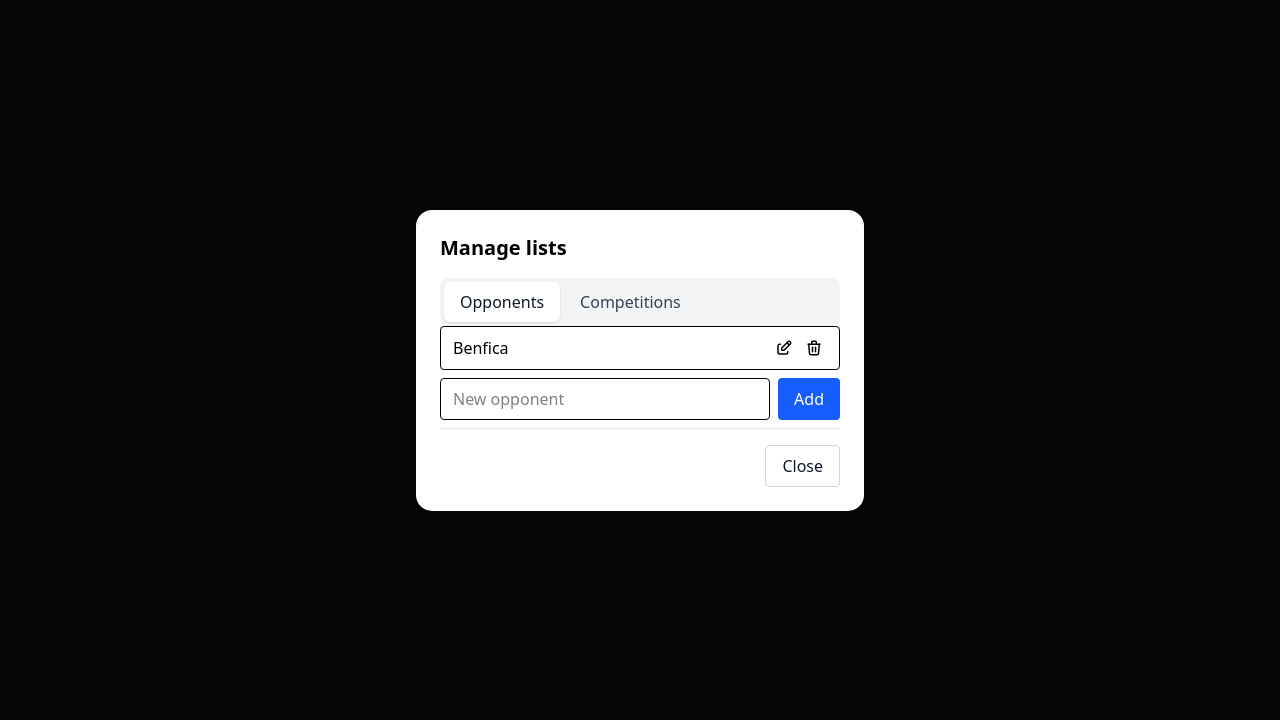
Scenario: switching tabs with a rename in progress discards that edit (edge case)
Expected: the text "Benfica" is shown, [453,336,509,360]
Click the button named "Rename Benfica" at (784, 348), box [771,334,797,360]
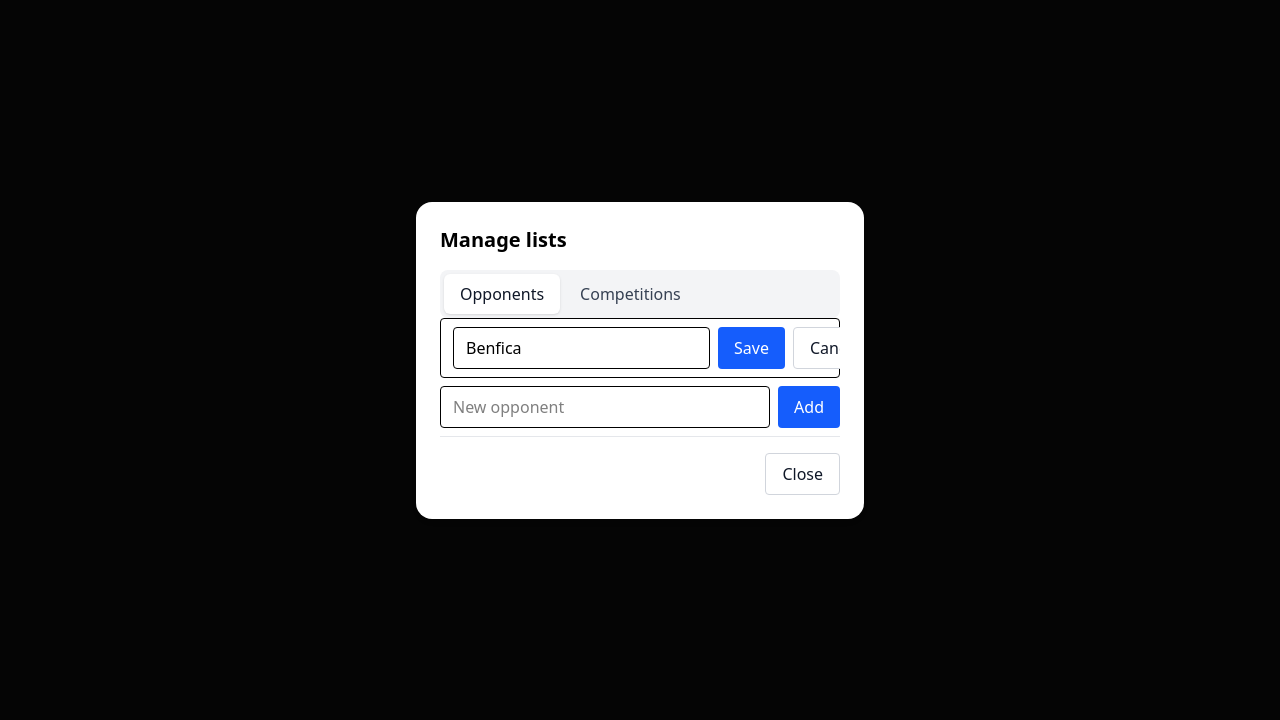
Replace the text in the field named "Rename Benfica" with "Something Else" at (582, 348), box [453,326,710,368]
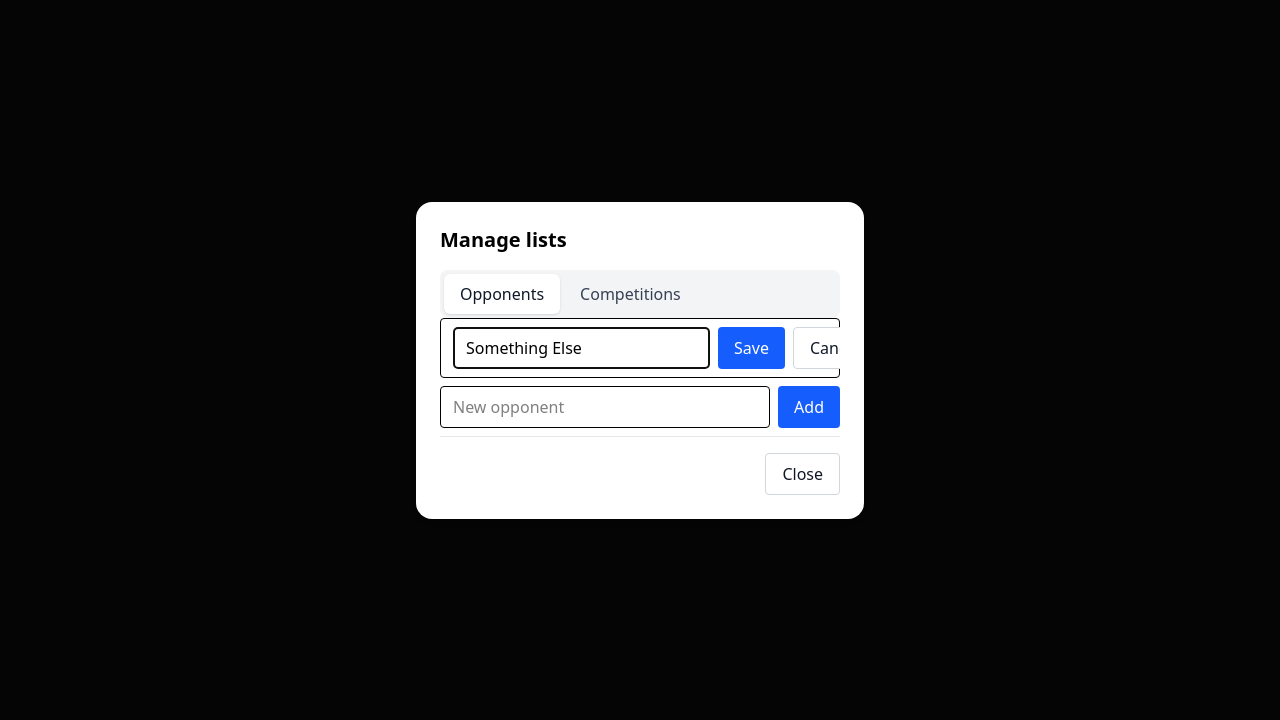
Click the tab "Competitions" at (630, 294), box [564,274,697,314]
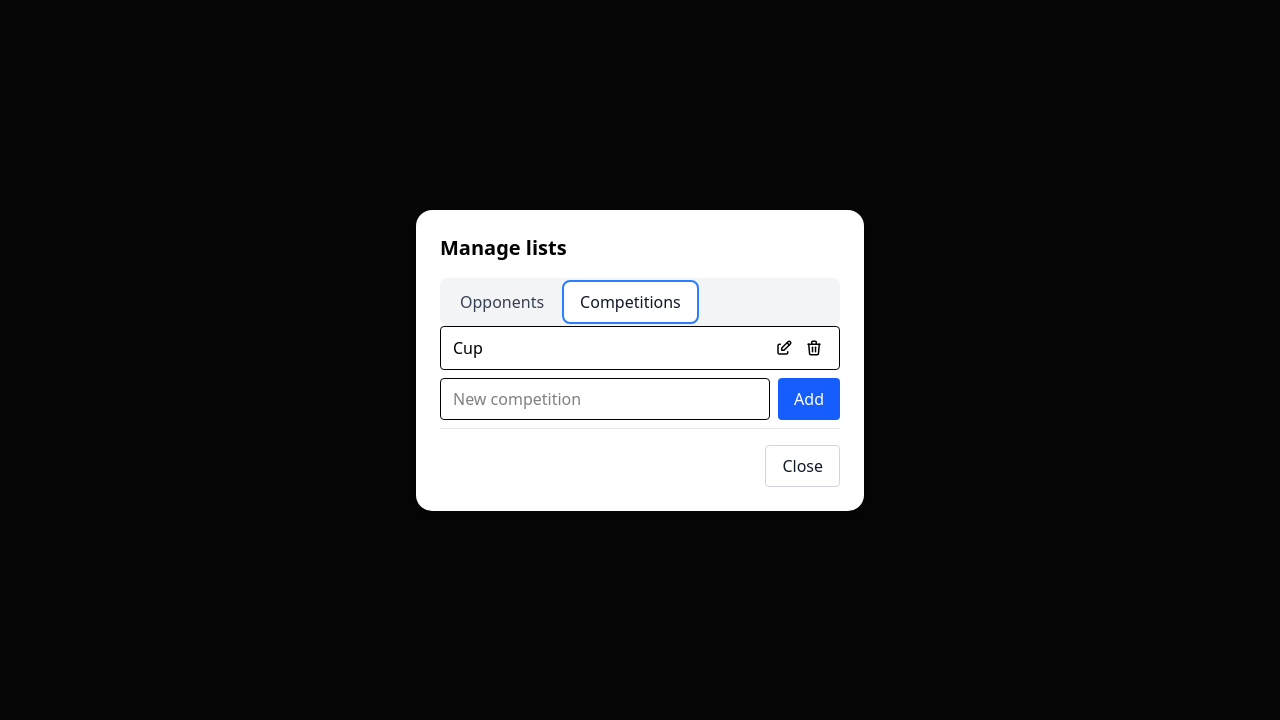
Result: the text "Cup" is shown at [453,336,483,360]
Click the tab "Opponents" at (502, 302), box [444,282,560,322]
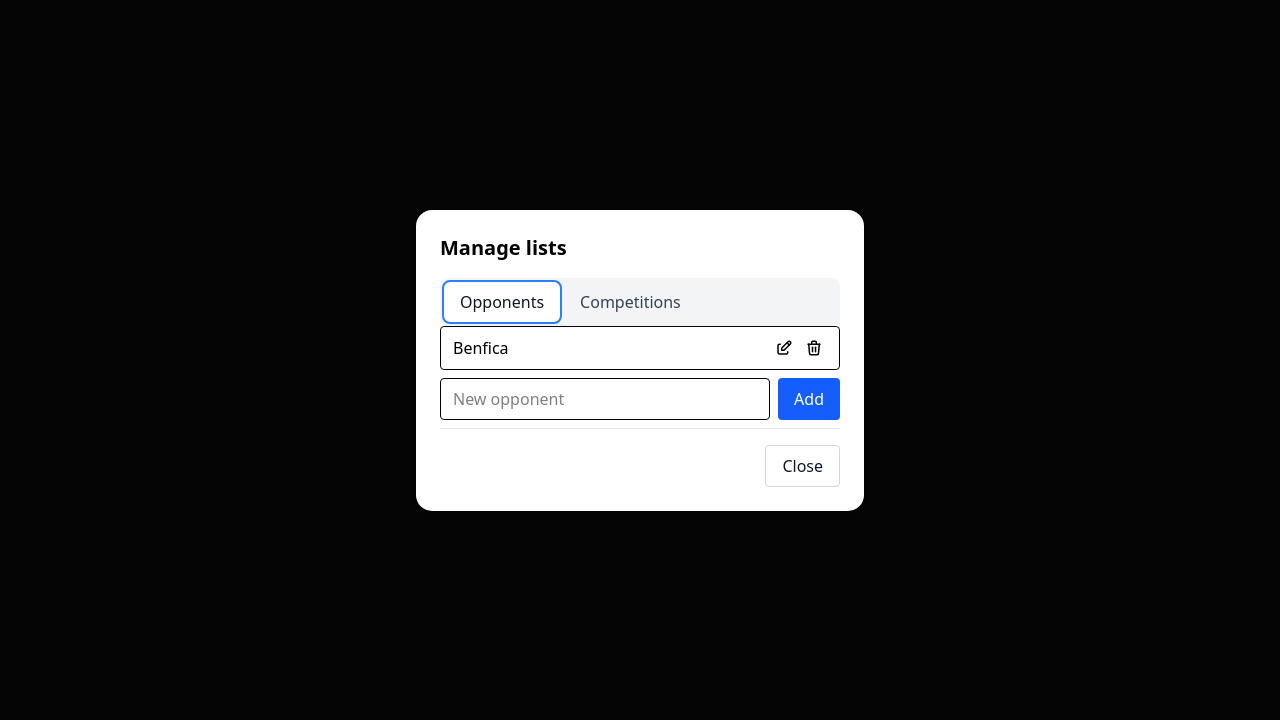
Result: the text "Benfica" is shown at [453,336,509,360]
Click the button named "Rename Benfica" at (784, 348), box [771,334,797,360]
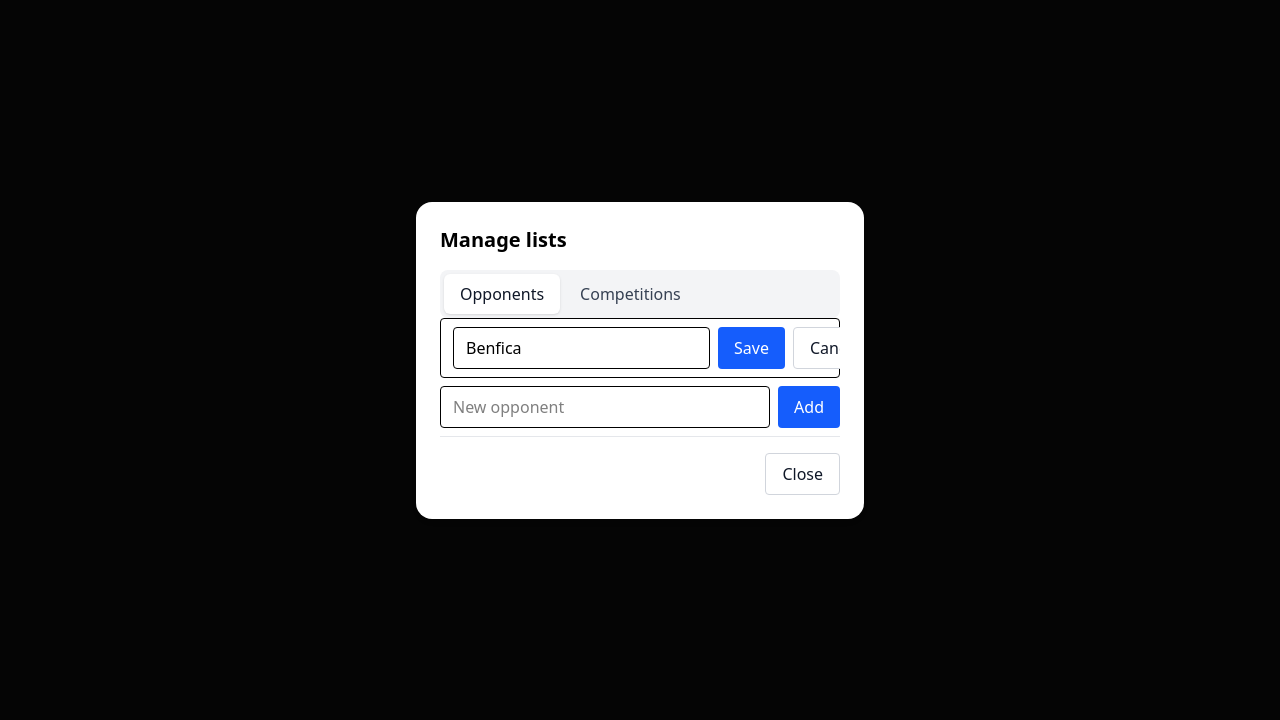
Result: the field named "Rename Benfica" holds "Benfica" at [453,326,710,368]
